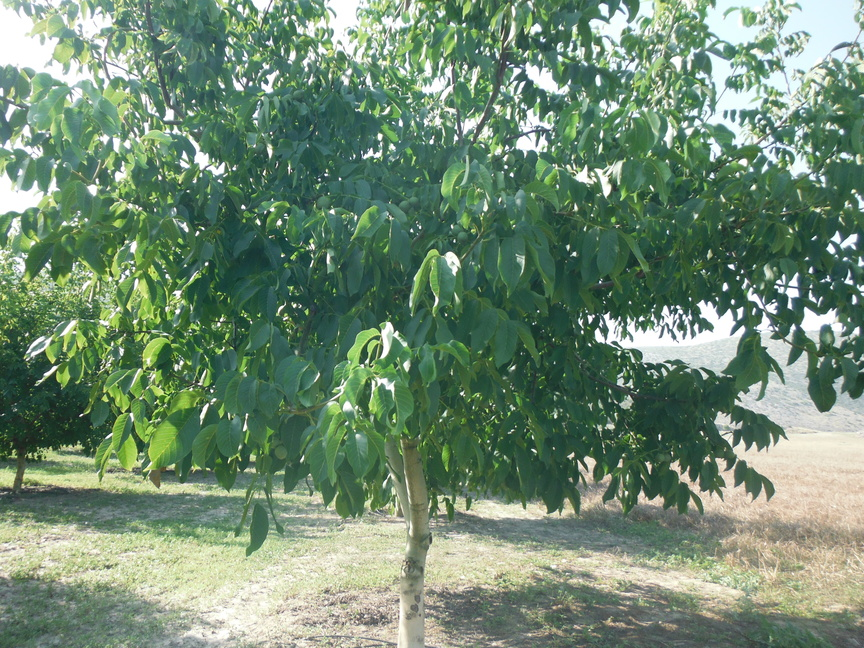walnut: (274, 441, 288, 461), (315, 194, 331, 211), (396, 198, 412, 213), (290, 87, 305, 102), (502, 150, 515, 167), (457, 230, 470, 243), (408, 193, 421, 206), (653, 450, 665, 463), (267, 434, 279, 447), (450, 222, 461, 235), (620, 451, 632, 462), (663, 451, 673, 462), (436, 486, 444, 497), (429, 482, 437, 493)
